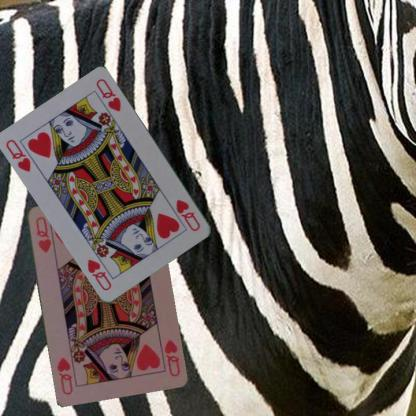Qh: (3, 136, 32, 174), (173, 196, 202, 233), (161, 337, 181, 378), (32, 214, 52, 254)
